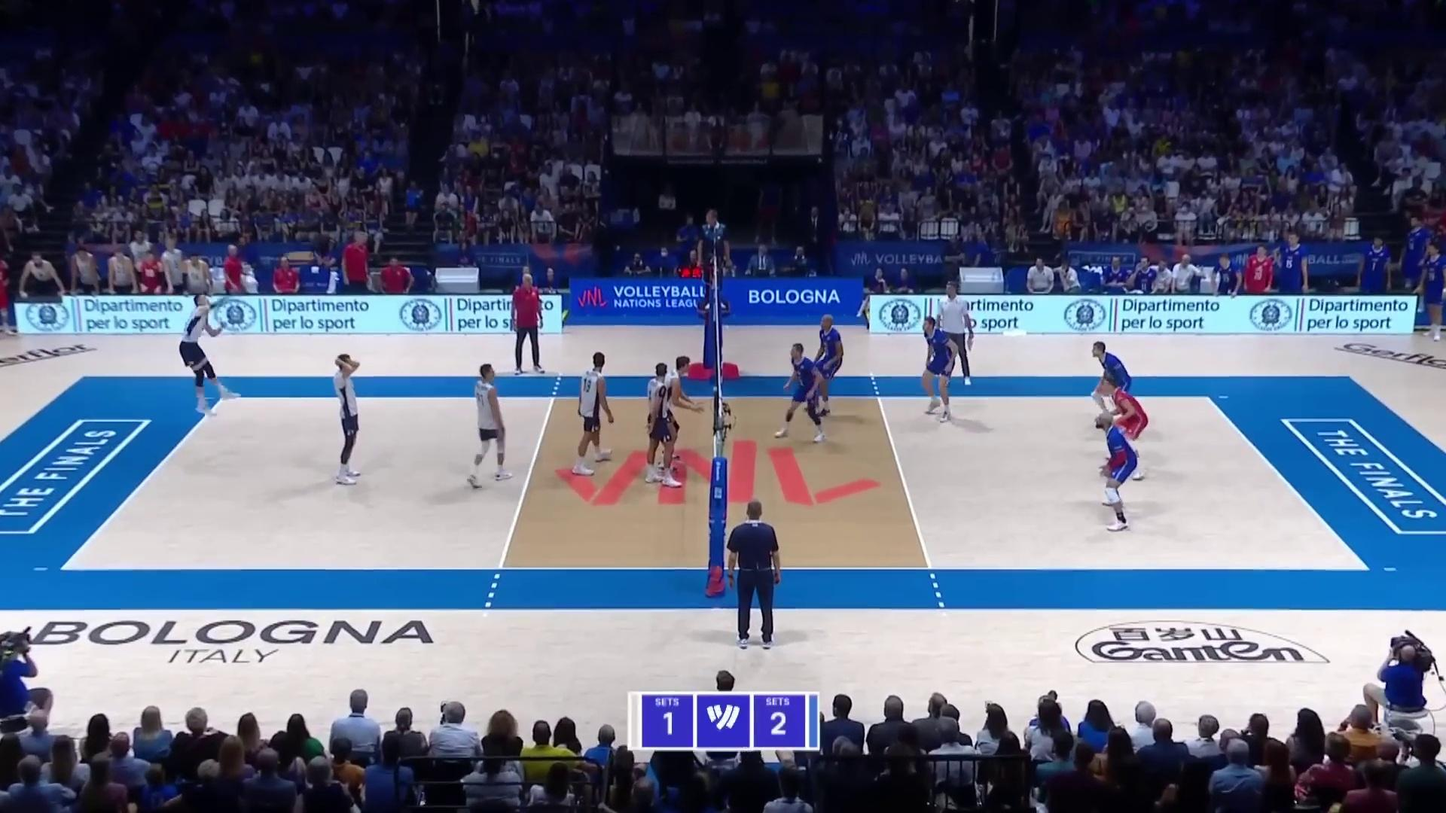player: (177, 294, 236, 416), (1088, 372, 1151, 483), (640, 365, 684, 489), (1095, 412, 1139, 533), (576, 350, 619, 473), (660, 356, 703, 473), (471, 367, 512, 487), (778, 344, 825, 444), (920, 317, 962, 426), (1089, 339, 1140, 425), (331, 357, 364, 486), (809, 317, 843, 419)
refree: (725, 499, 783, 652), (698, 209, 730, 309)
